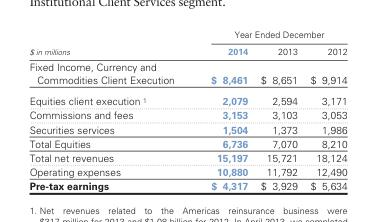table: (28, 28, 346, 191)
table column: (28, 28, 192, 191), (192, 28, 253, 191), (253, 28, 303, 191), (303, 28, 346, 191)
table column header: (28, 28, 346, 58)
table row: (28, 58, 346, 89), (28, 89, 346, 107), (28, 42, 346, 58), (28, 149, 346, 164), (28, 28, 346, 42), (28, 107, 346, 121), (28, 121, 346, 135), (28, 135, 346, 149), (28, 164, 346, 178), (28, 178, 346, 191)
table spanning cell: (28, 28, 192, 58), (192, 28, 346, 42)
